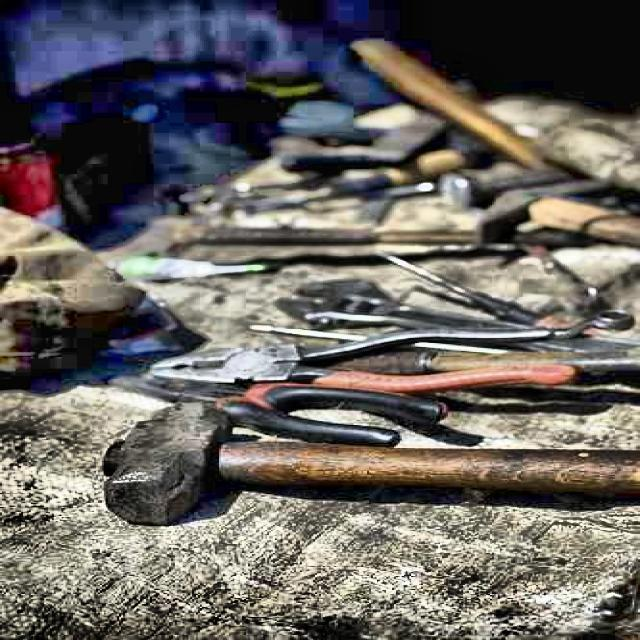hammer: (93, 401, 640, 529)
